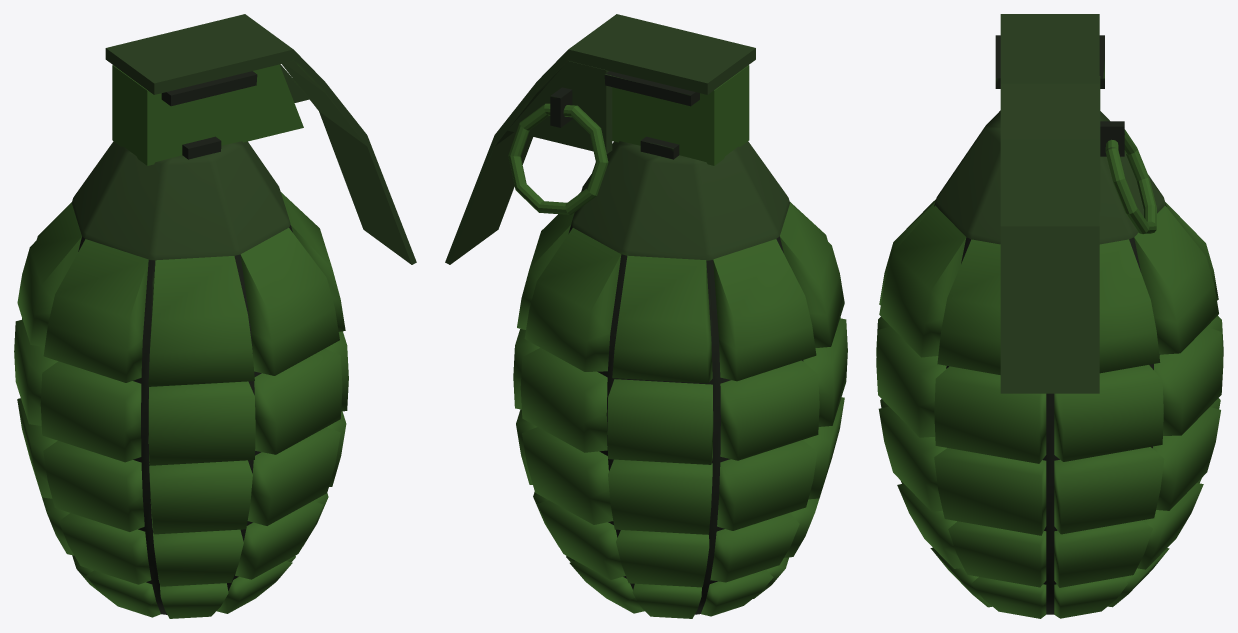
Rendered from Grenade.fbx.
The picture shows the model from 3 angles, left to right: view 1: azimuth 30°, elevation 25°; view 2: azimuth 150°, elevation 25°; view 3: azimuth 270°, elevation 25°; orthographic projection. The views are drawn at different scales.
Visible parts, largest first — view 1: Grenade; view 2: Grenade; view 3: Grenade.
Boxes of the visible parts, x1,y1,x2,y2 form: Grenade: (14, 14, 416, 618); Grenade: (445, 14, 847, 618); Grenade: (876, 14, 1223, 618).
Bounding box in the file's own units: 3.54 × 5.07 × 2.9.
